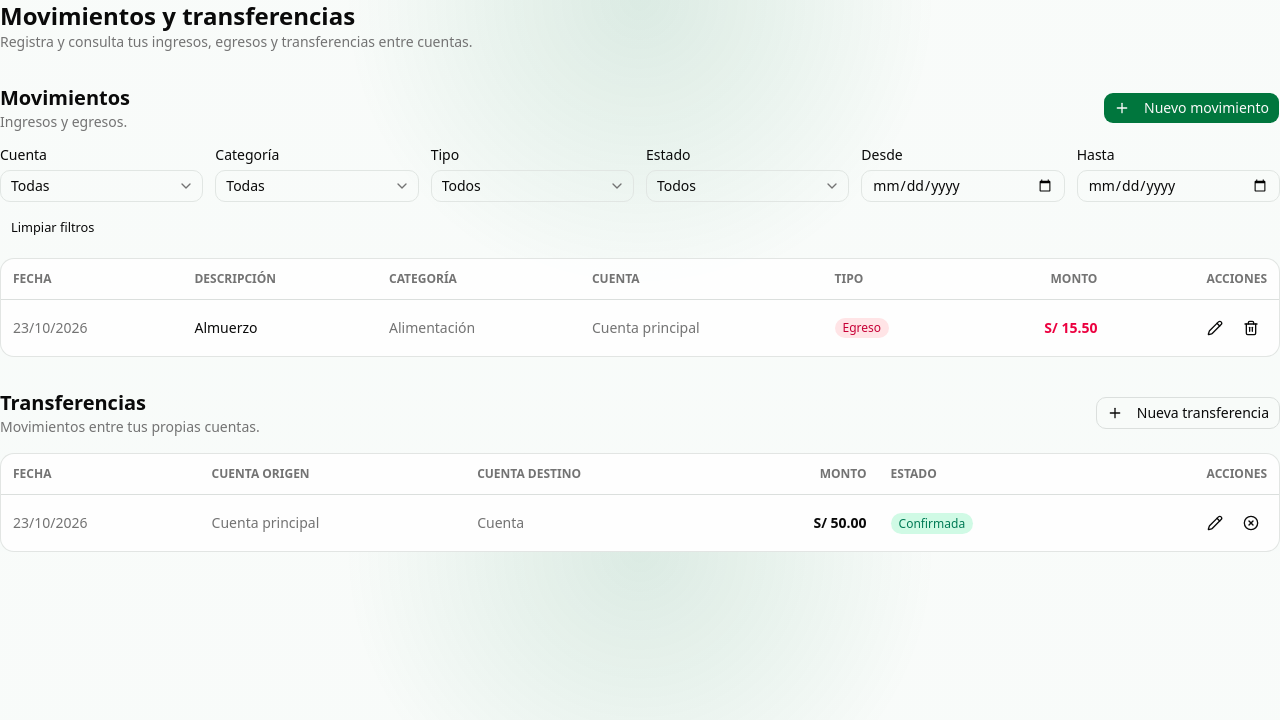
Test: TransactionsPage › abre el modal para crear una transferencia
Click the button "Nueva transferencia".
click(1188, 413)  # box [1096, 397, 1279, 429]
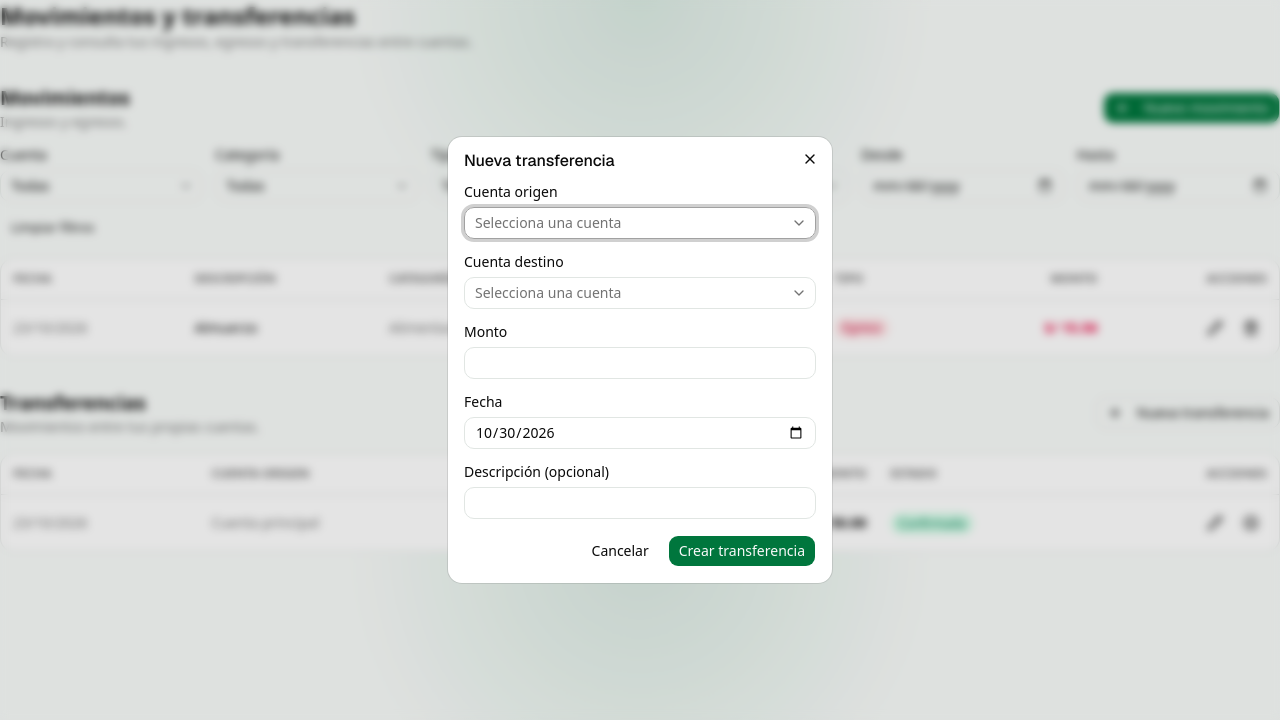
Check: the heading "Nueva transferencia" is shown, box [464, 150, 615, 171]
